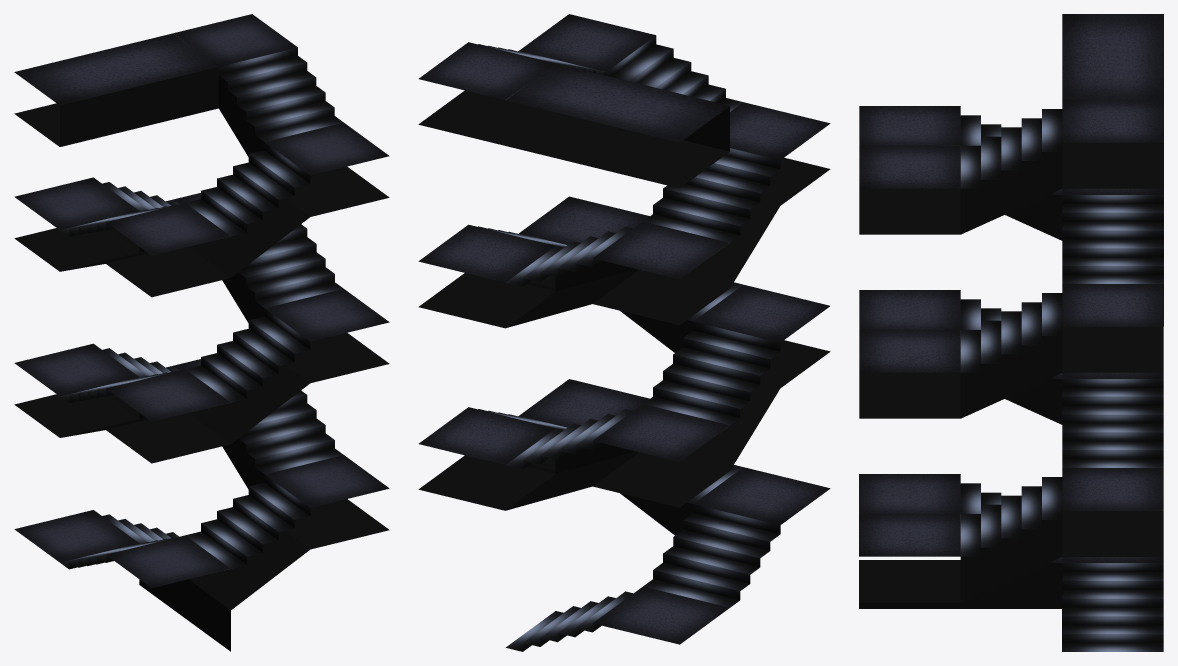
The model's file is Emer_Steps.fbx.
3 renders of one model, left to right at view 1: azimuth 30°, elevation 25°; view 2: azimuth 150°, elevation 25°; view 3: azimuth 270°, elevation 25°, orthographic. The views are drawn at different scales.
Parts seen in each view (by area): view 1: Emer_Steps; view 2: Emer_Steps; view 3: Emer_Steps.
Boxes of the visible parts, x1,y1,x2,y2 form: Emer_Steps: [14, 14, 389, 651]; Emer_Steps: [418, 14, 830, 651]; Emer_Steps: [859, 14, 1163, 651].
Bounding box in the file's own units: 30 × 60 × 30.02.
